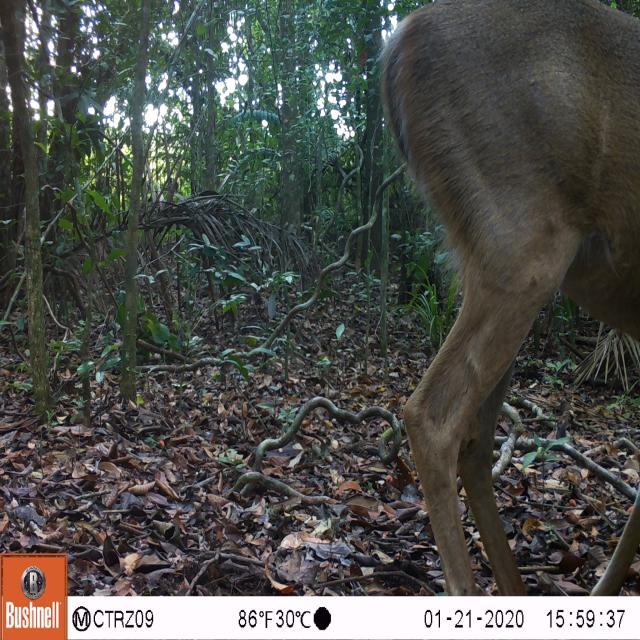White-tailed Deer: (367, 0, 640, 594)
